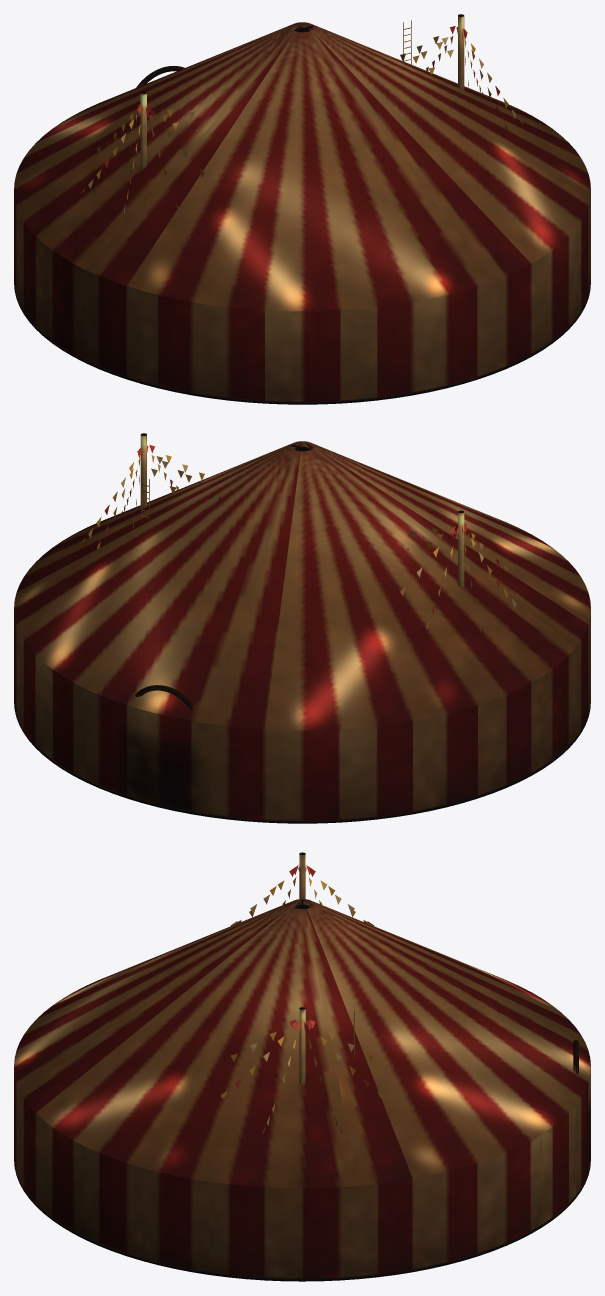
The model's file is ring_set.glb.
3 views of the same model, one above another, from view 1: azimuth 30°, elevation 25°; view 2: azimuth 150°, elevation 25°; view 3: azimuth 270°, elevation 25° (orthographic).
Visible parts, largest first — view 1: ring_set; view 2: ring_set; view 3: ring_set.
Part boxes in pixels (box(x1,y1,x2,y2)): ring_set: box(14, 14, 590, 404); ring_set: box(14, 433, 590, 823); ring_set: box(14, 852, 590, 1281).
Size of the model in its own units: 29 by 14.17 by 29.
Materials: 1 (1 with a texture image).
